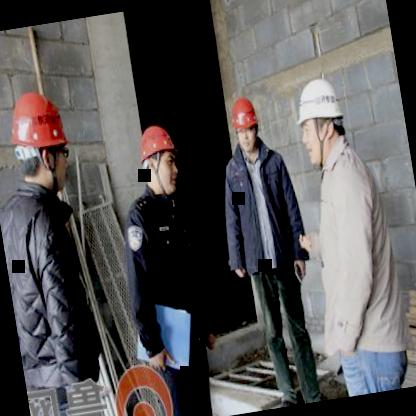helmet: (0, 73, 78, 204), (286, 65, 360, 172), (129, 112, 191, 209), (226, 89, 266, 155)
